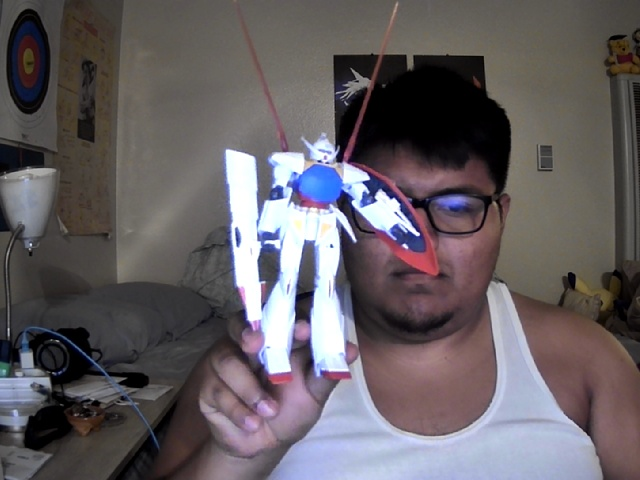Turn-A: (224, 131, 440, 385)
